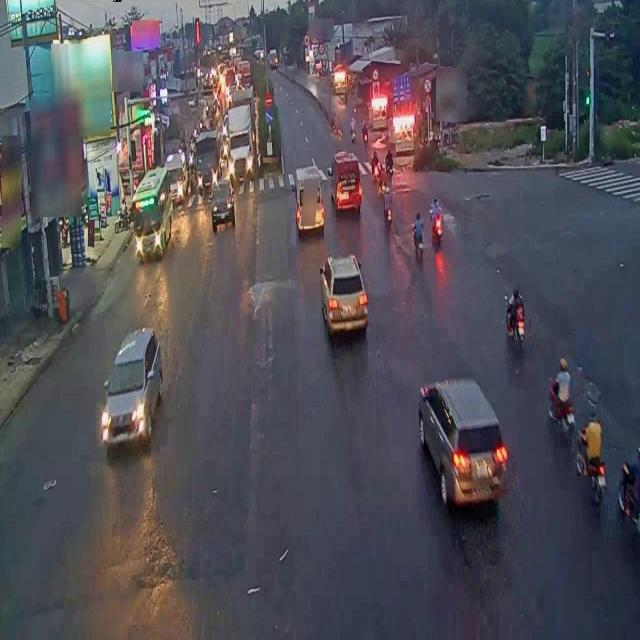car: (418, 372, 505, 507), (104, 327, 164, 445), (320, 249, 372, 344), (571, 423, 602, 514)
motorcycle: (575, 404, 611, 516), (513, 292, 536, 368), (429, 205, 445, 266), (429, 193, 445, 248), (391, 205, 404, 259)
truck: (293, 162, 329, 240), (330, 147, 366, 218)
